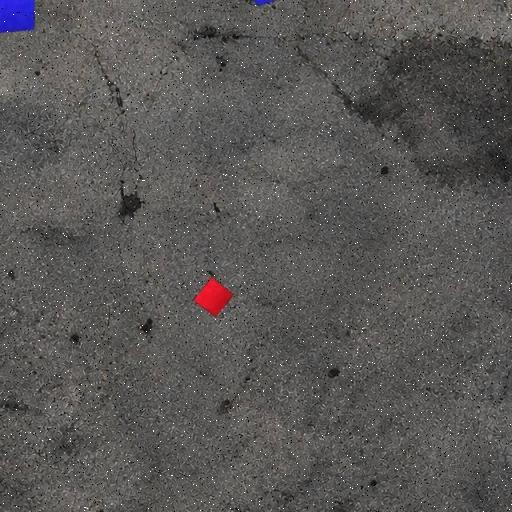RED_SQUARE: (193, 276, 234, 318)
